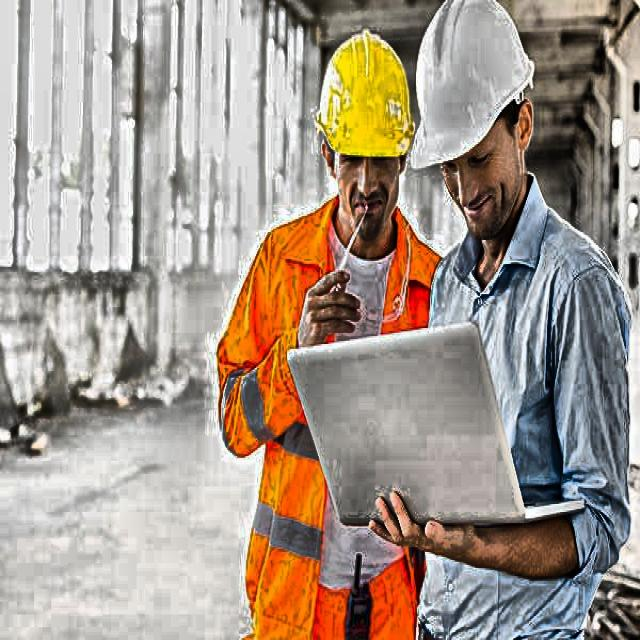helmet: (415, 0, 548, 253), (310, 13, 438, 246)
